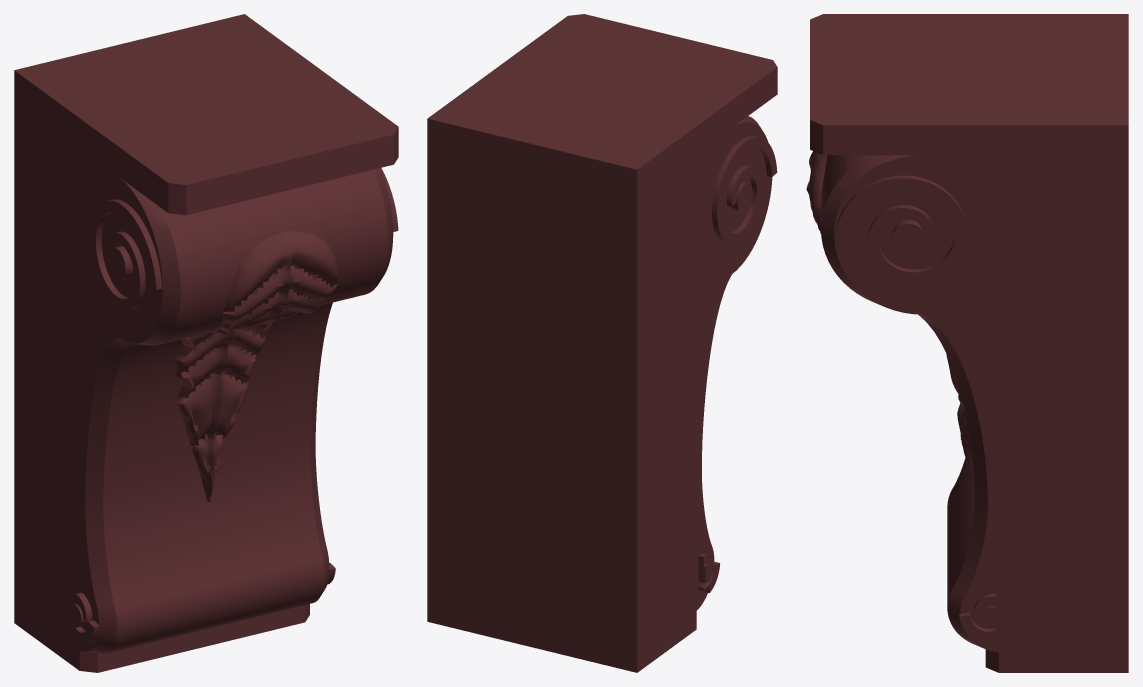
The model's file is console.glb.
3 views of the same model, side by side, from view 1: azimuth 30°, elevation 25°; view 2: azimuth 150°, elevation 25°; view 3: azimuth 270°, elevation 25° (orthographic). The views are drawn at different scales.
Visible parts, largest first — view 1: con_body, con_leaf, con_fillet_u0_l, con_boss_u_l; view 2: con_body, con_fillet_u0_l; view 3: con_body, con_fillet_u0_r, con_leaf, con_boss_u_r.
Boxes of the visible parts, x1,y1,x2,y2 form: con_body: (14, 14, 398, 672); con_leaf: (175, 231, 338, 502); con_fillet_u0_l: (90, 199, 162, 309); con_boss_u_l: (109, 245, 133, 279); con_body: (427, 14, 777, 672); con_fillet_u0_l: (712, 136, 777, 243); con_body: (810, 14, 1128, 672); con_fillet_u0_r: (835, 175, 966, 282); con_leaf: (806, 151, 973, 467); con_boss_u_r: (892, 220, 925, 253).
Bounding box in the file's own units: 0.256 × 0.55 × 0.2933.
